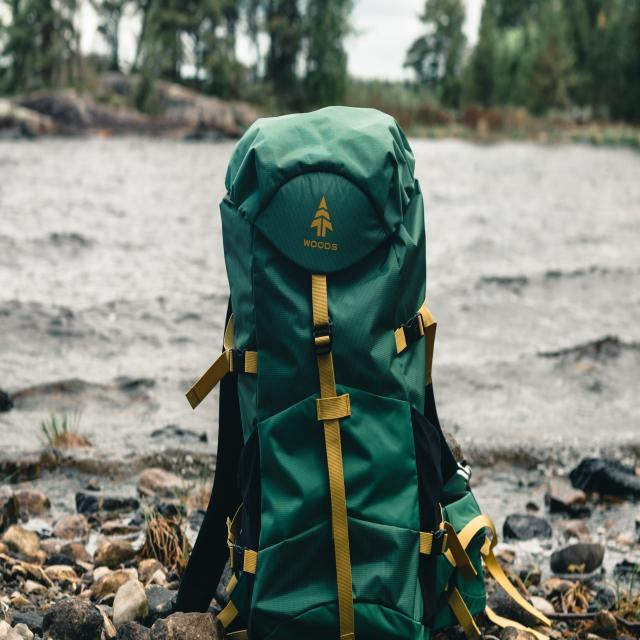backpack: (220, 100, 488, 640)
